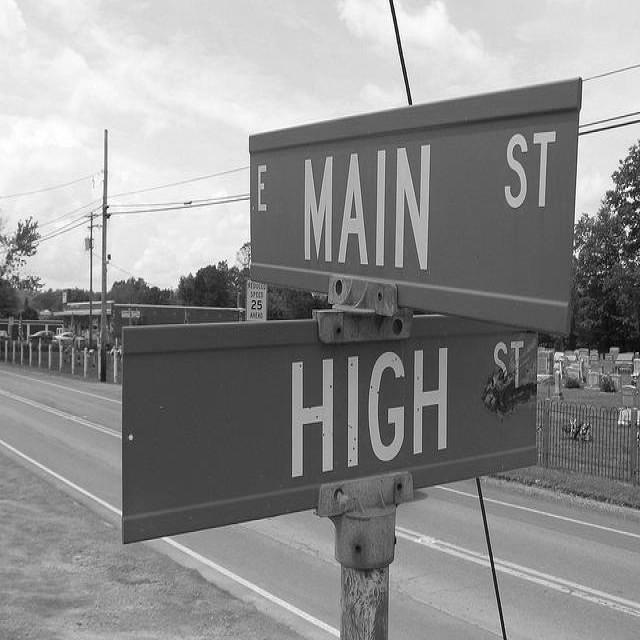vehicle: (52, 331, 84, 343), (29, 331, 57, 342), (0, 329, 12, 341)
